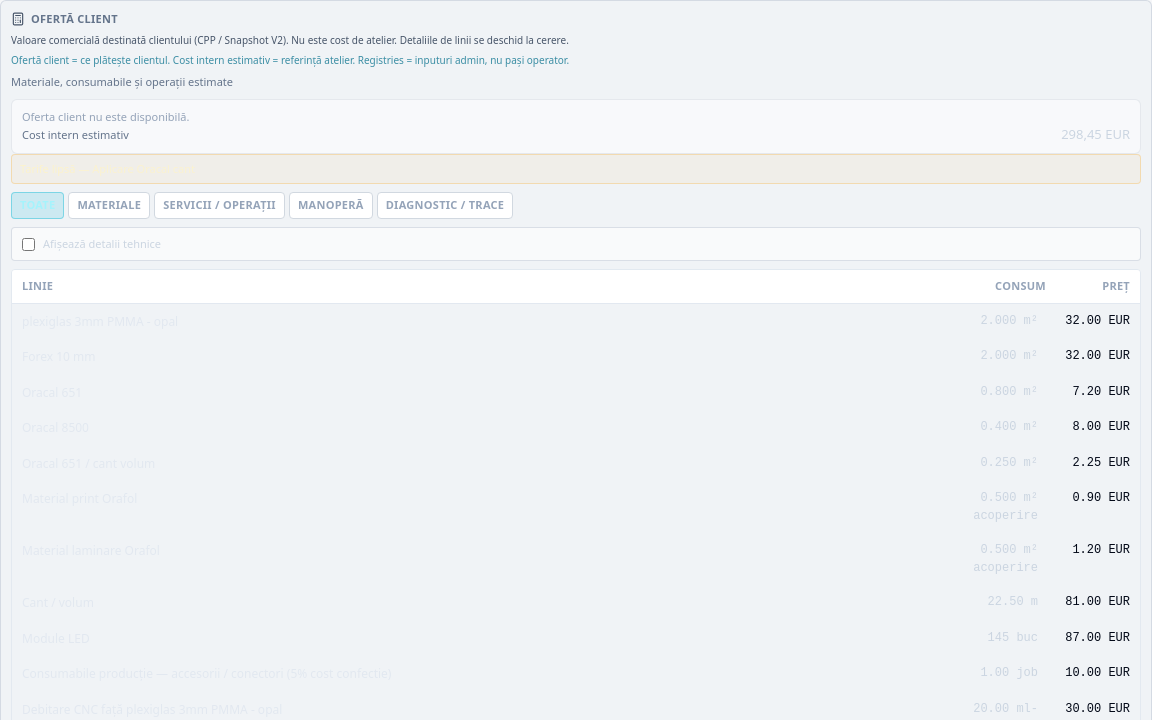
Test case: IntakeV6LiveCalculationSummary › shows one generic plexiglas row and keeps source split only in technical details
The width and height of the screenshot is (1152, 720).
Expected: the element with test id "intake-v6-live-material-used-plexi" shows "2.000 m²", [980,314,1038,328]
Expected: the element with test id "intake-v6-live-material-cost-plexi" reads "32.00 EUR", [1065,314,1130,328]
Click the checkbox labelled "Afișează detalii tehnice". click: (28,244)
box: [22,238,35,251]
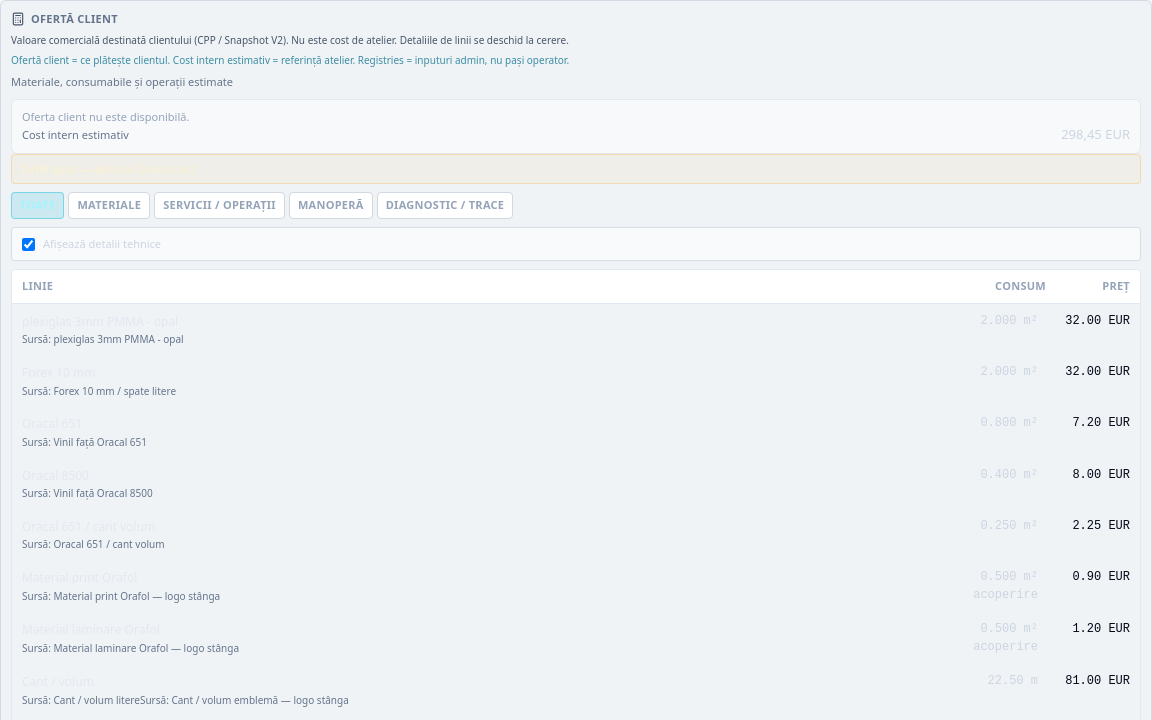
Expected: the text with test id "intake-v6-breakdown-source-plexi-0" reads "Sursă: plexiglas 3mm PMMA - opal", [22,332,184,346]
